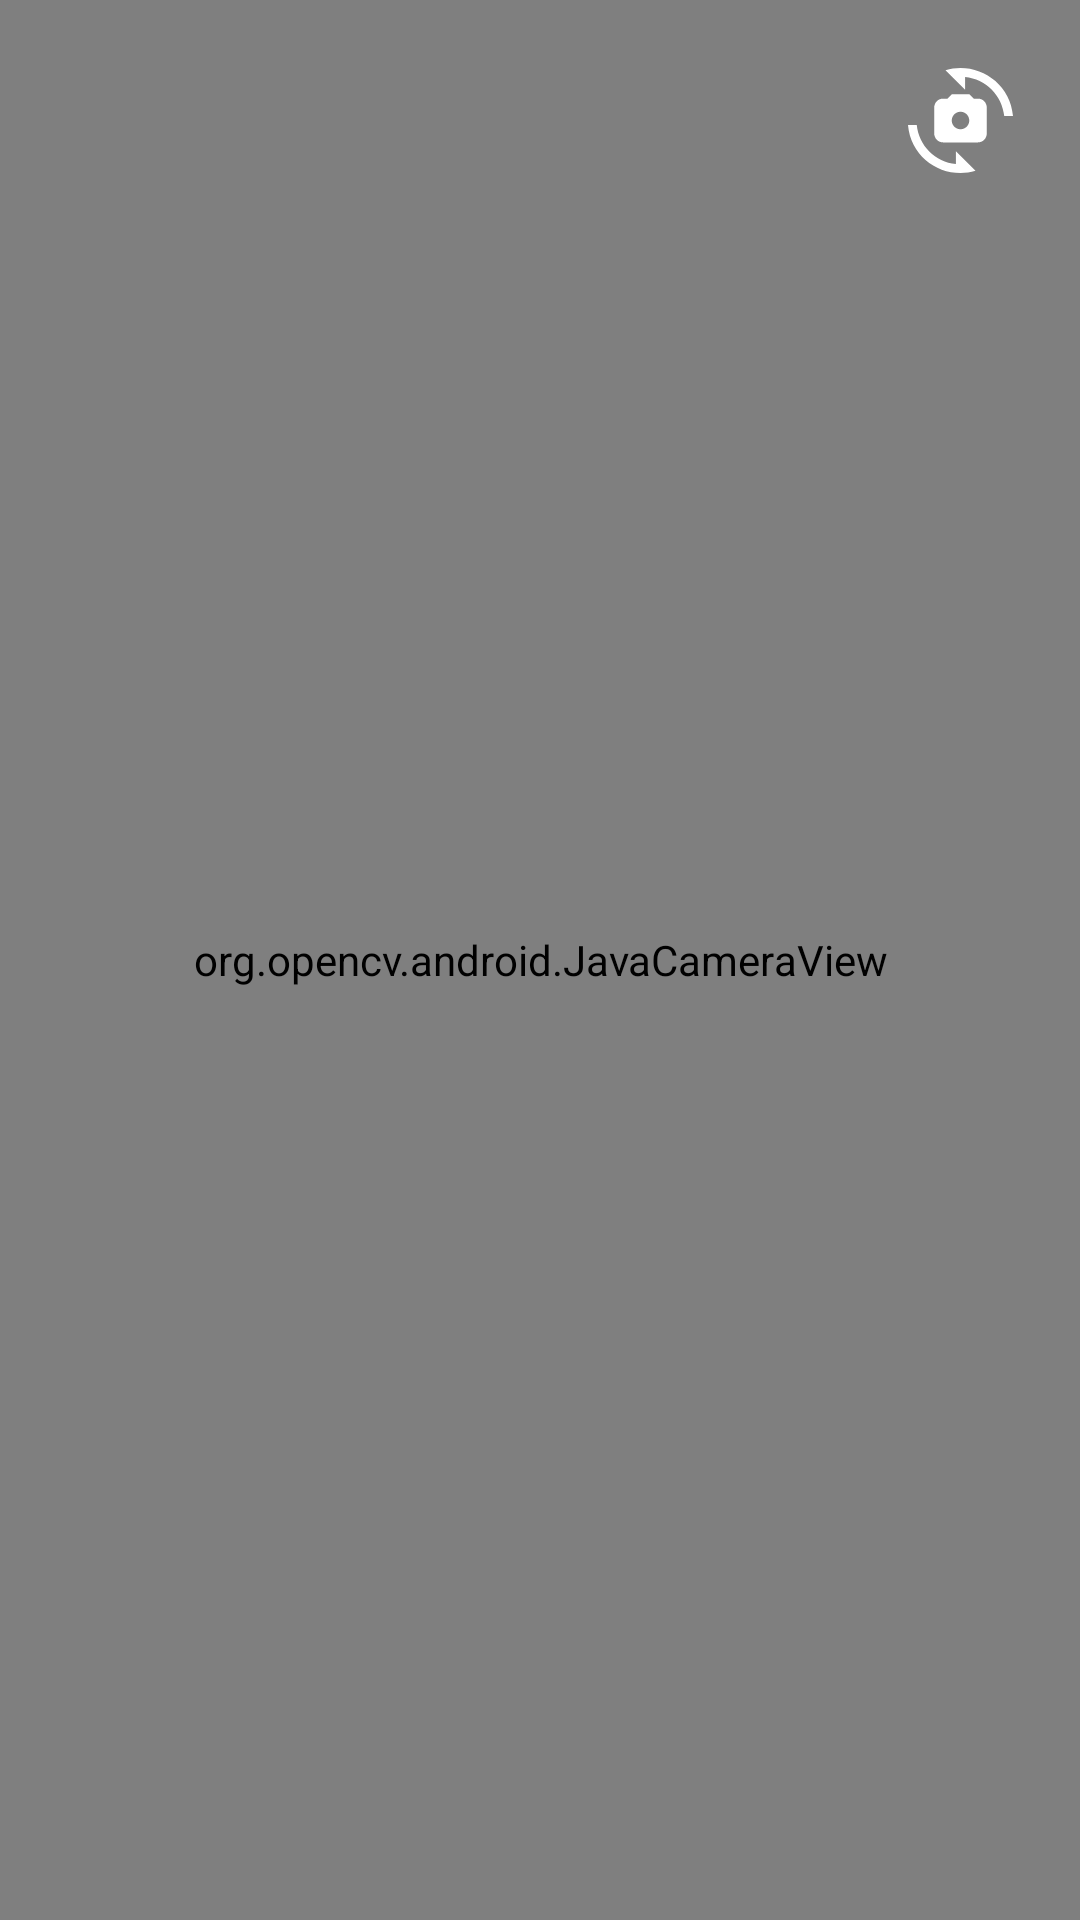

Point at icon controls on the screen. Image size 1080 × 1920, points as (x=x, y=y).
Button Switch Camera: (x=960, y=120)
